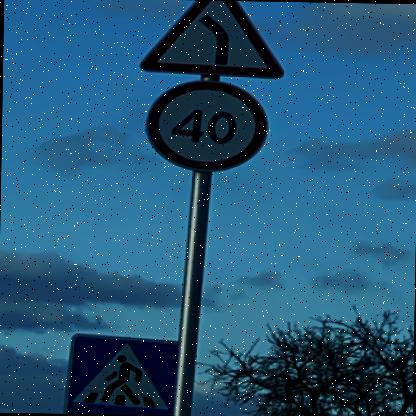crosswalk: (61, 332, 176, 414)
speedlimit: (142, 78, 266, 173)
